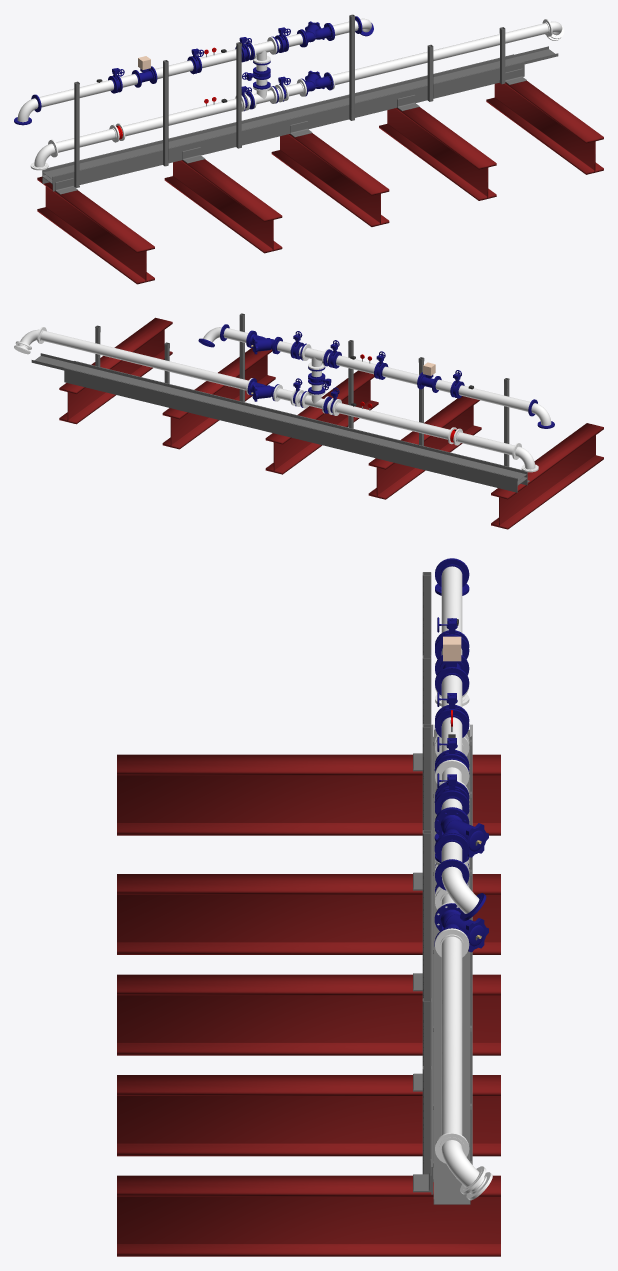
Rendered from Type_11.glb.
3 renders of one model, top to bottom at view 1: azimuth 30°, elevation 25°; view 2: azimuth 150°, elevation 25°; view 3: azimuth 270°, elevation 25°, orthographic. The views are drawn at different scales.
Visible parts, largest first — view 1: Untitled.2811, Cube.002, Untitled.2819, Cube.005, Cube.003, Cube.006, Cube.004, Untitled.2808, Untitled.2810, Untitled.2785, Untitled.2793, Untitled.2791 (+9 smaller); view 2: Untitled.2811, Untitled.2819, Cube.002, Cube.006, Cube.003, Cube.005, Cube.004, Untitled.2808, Untitled.2810, Untitled.2785, Untitled.2805, Untitled.1583 (+9 smaller); view 3: Cube.006, Cube.005, Cube.004, Cube.002, Cube.003, Untitled.2819, Untitled.2808, Untitled.2811, Untitled.2793, Untitled.2772, Untitled.2785, Untitled.2773 (+4 smaller).
Part boxes in pixels (x1=…): Untitled.2811: x1=42, y1=54, x2=524, y2=191; Cube.002: x1=37, y1=176, x2=154, y2=284; Untitled.2819: x1=42, y1=46, x2=558, y2=179; Cube.005: x1=379, y1=107, x2=496, y2=200; Cube.003: x1=164, y1=159, x2=282, y2=253; Cube.006: x1=486, y1=81, x2=603, y2=174; Cube.004: x1=271, y1=133, x2=389, y2=226; Untitled.2808: x1=333, y1=23, x2=548, y2=85; Untitled.2810: x1=123, y1=98, x2=236, y2=136; Untitled.2785: x1=39, y1=80, x2=113, y2=107; Untitled.2793: x1=349, y1=14, x2=354, y2=120; Untitled.2791: x1=163, y1=60, x2=168, y2=166; Untitled.2811: x1=64, y1=361, x2=527, y2=492; Untitled.2819: x1=31, y1=353, x2=526, y2=480; Cube.002: x1=491, y1=423, x2=603, y2=529; Cube.006: x1=59, y1=317, x2=172, y2=424; Cube.003: x1=368, y1=396, x2=481, y2=499; Cube.005: x1=162, y1=348, x2=275, y2=449; Cube.004: x1=265, y1=370, x2=378, y2=474; Untitled.2808: x1=41, y1=330, x2=248, y2=390; Untitled.2810: x1=336, y1=402, x2=449, y2=439; Untitled.2785: x1=458, y1=385, x2=530, y2=411; Untitled.2805: x1=457, y1=432, x2=514, y2=455; Untitled.1583: x1=301, y1=344, x2=328, y2=369; Cube.006: x1=117, y1=1175, x2=500, y2=1256; Cube.005: x1=117, y1=1075, x2=500, y2=1156; Cube.004: x1=117, y1=974, x2=500, y2=1055; Cube.002: x1=117, y1=754, x2=500, y2=835; Cube.003: x1=117, y1=874, x2=500, y2=954; Untitled.2819: x1=433, y1=724, x2=470, y2=1204; Untitled.2808: x1=441, y1=936, x2=462, y2=1135; Untitled.2811: x1=431, y1=724, x2=472, y2=1194; Untitled.2793: x1=422, y1=830, x2=431, y2=998; Untitled.2772: x1=434, y1=808, x2=488, y2=857; Untitled.2785: x1=441, y1=566, x2=462, y2=632; Untitled.2773: x1=434, y1=903, x2=488, y2=952.
Bounding box in the file's own units: 9.98 × 2.39 × 3.12.
